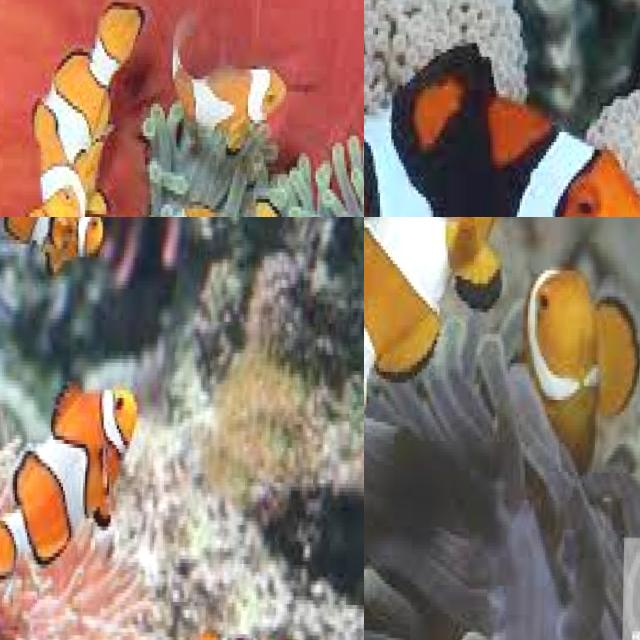Amphiprion-percula: (364, 0, 640, 217), (364, 217, 529, 505), (0, 364, 145, 605), (512, 248, 640, 511), (2, 0, 142, 217), (159, 0, 307, 170), (0, 280, 62, 450), (0, 217, 144, 285), (170, 596, 292, 640), (0, 539, 44, 634)
